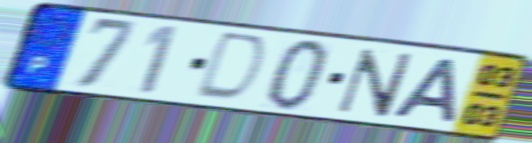0: (263, 38, 331, 113)
1: (138, 22, 180, 97)
7: (77, 14, 138, 92)
A: (389, 56, 461, 125)
D: (190, 29, 272, 105)
N: (333, 46, 418, 119)
